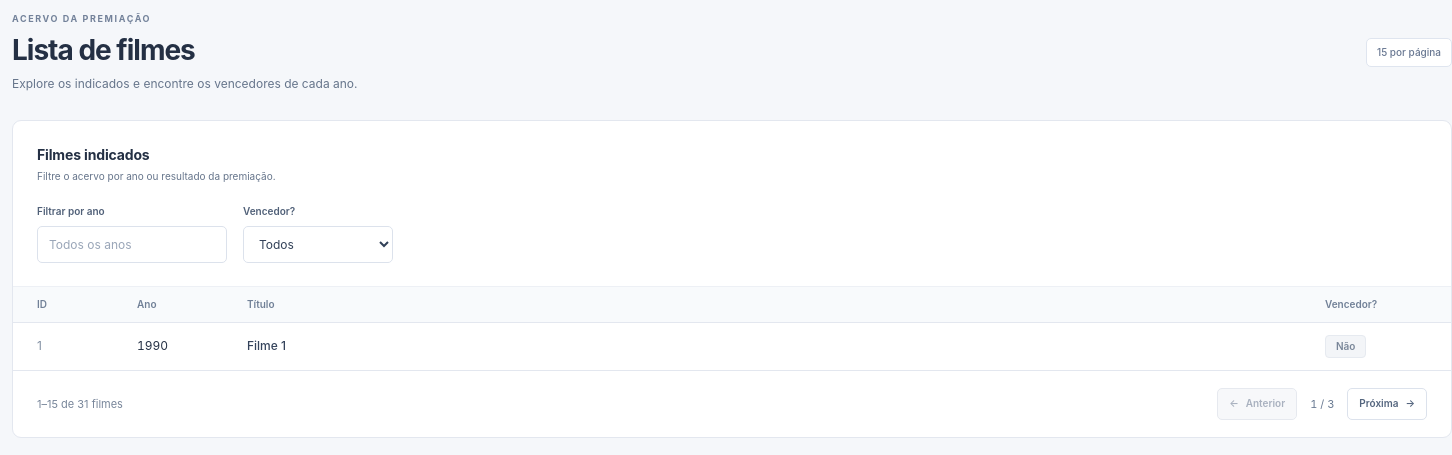
Test: lista de filmes › reinicia a página ao filtrar por ano e vencedor e ao limpar filtros
The width and height of the screenshot is (1452, 455).
Expected: the text "Filme 1" is shown, top-left (223, 323), bottom-right (1301, 370)
Click the button with aria-label "Próxima página": (1387,404) top-left (1347, 388), bottom-right (1427, 420)
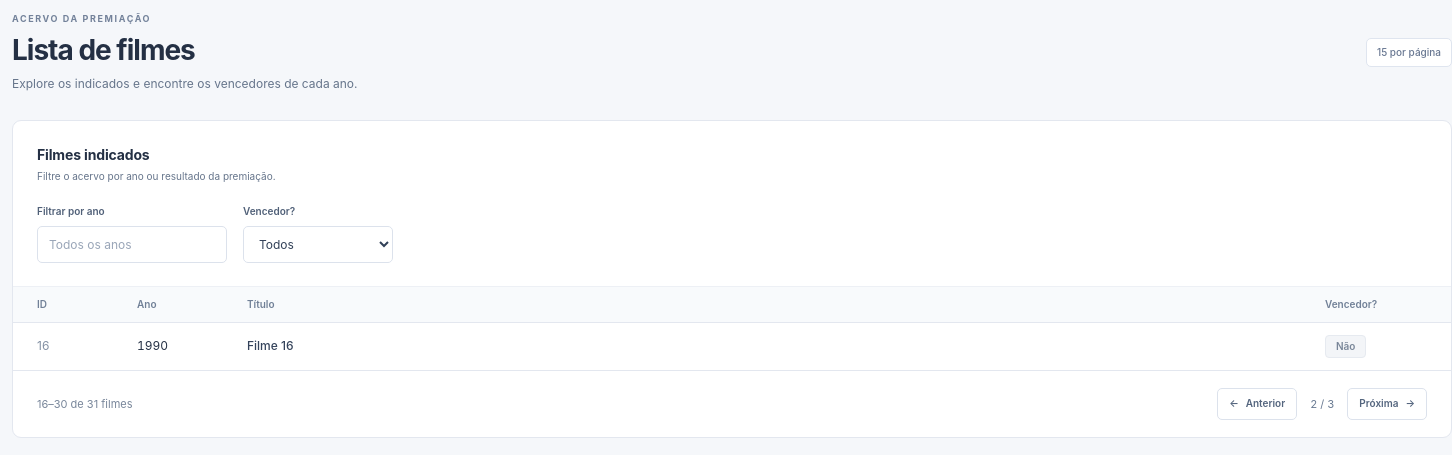
Expected: the text "Filme 16" is shown, top-left (223, 323), bottom-right (1301, 370)
In the field labelled "Filtrar por ano": (132,244) top-left (37, 226), bottom-right (227, 263), type "1990"
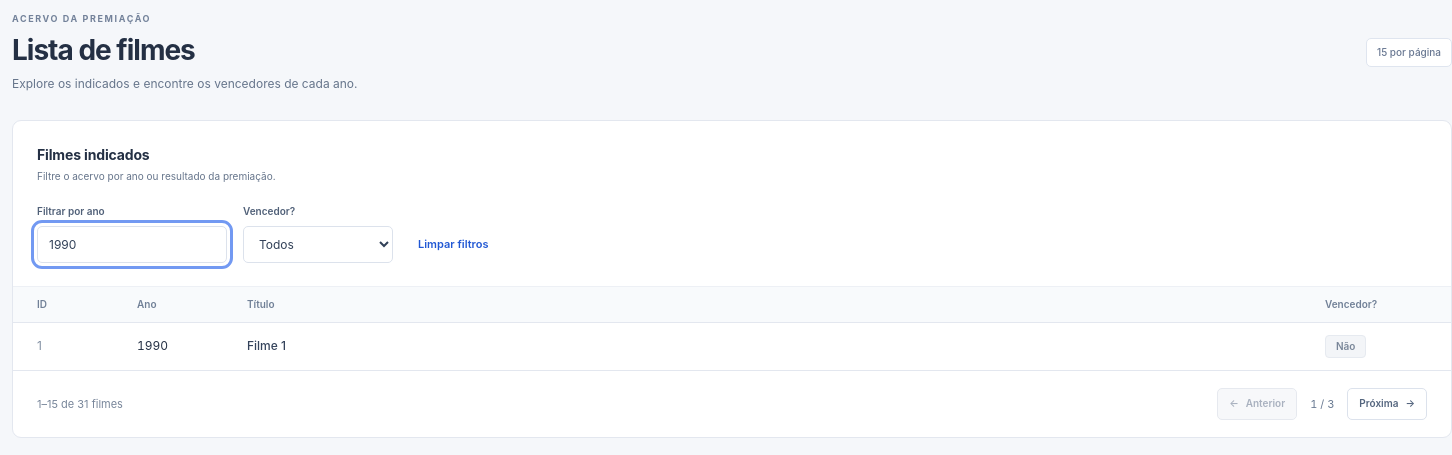
Expected: the text "Filme 1" is shown, top-left (223, 323), bottom-right (1301, 370)
Click the button with aria-label "Próxima página": (1387,404) top-left (1347, 388), bottom-right (1427, 420)
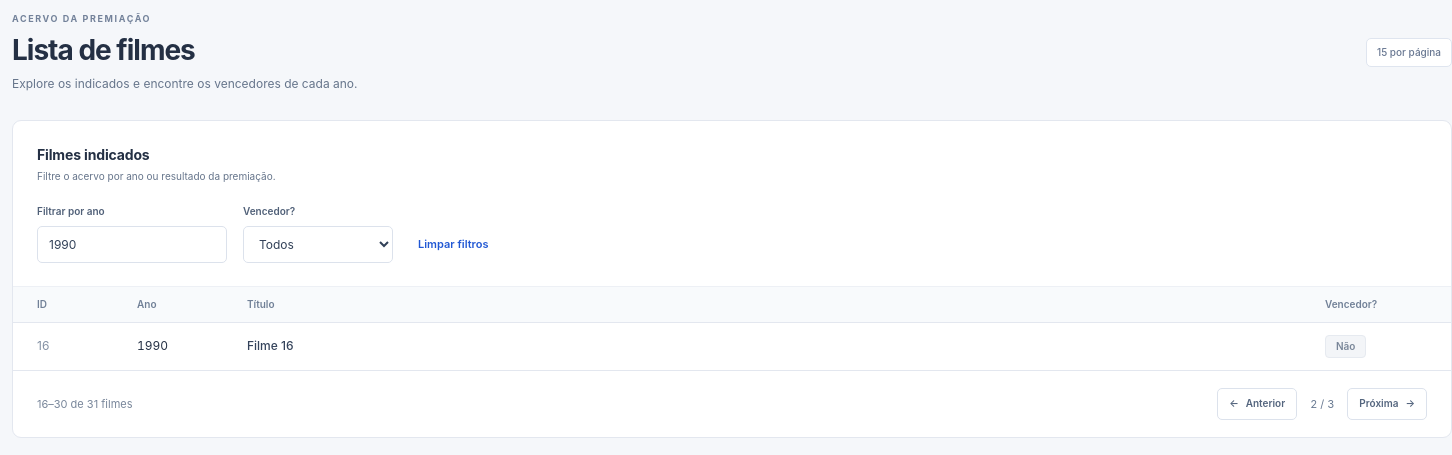
Expected: the text "Filme 16" is shown, top-left (223, 323), bottom-right (1301, 370)
Select "Sim" in the dropdown labelled "Vencedor?": (318,244) top-left (243, 226), bottom-right (393, 263)
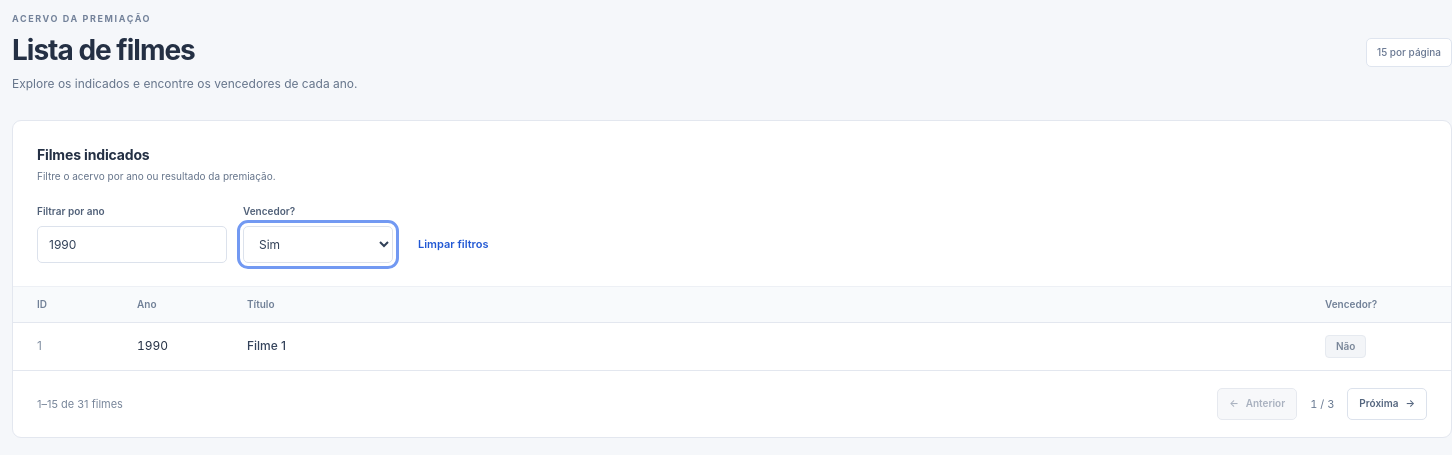
Select "Não" in the dropdown labelled "Vencedor?": (318,244) top-left (243, 226), bottom-right (393, 263)
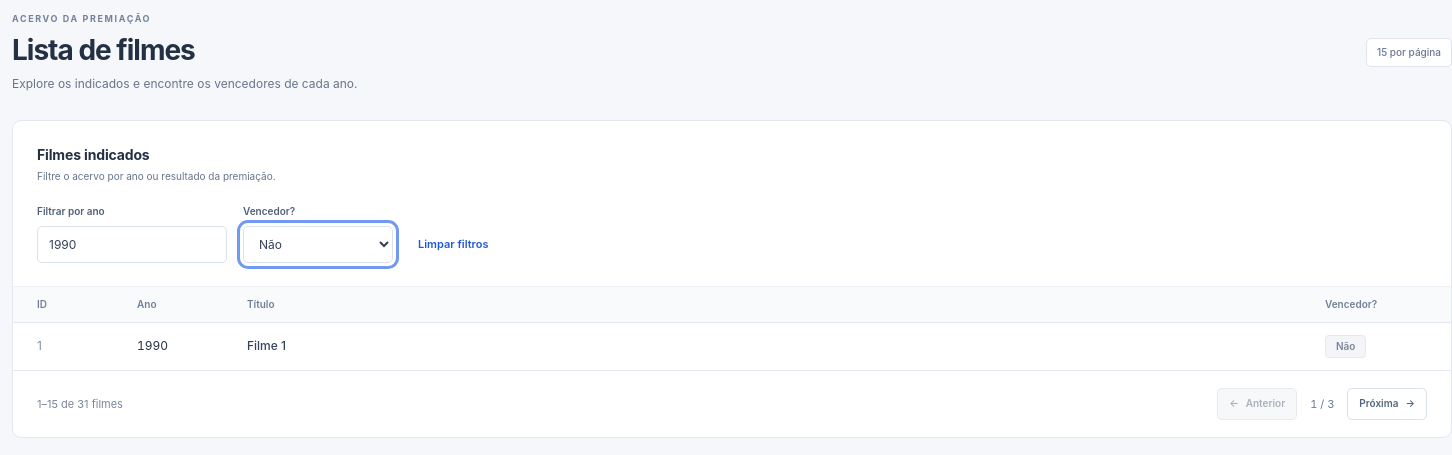
Click the button "Limpar filtros": (453,244) top-left (409, 226), bottom-right (497, 263)
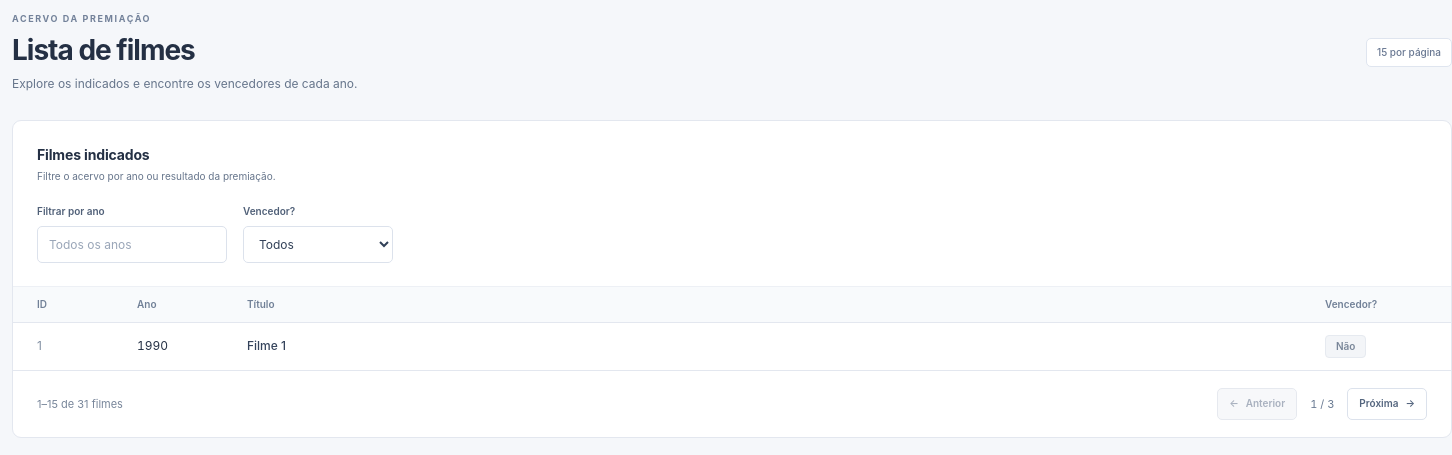
Expected: the field labelled "Filtrar por ano" is empty, top-left (37, 226), bottom-right (227, 263)
